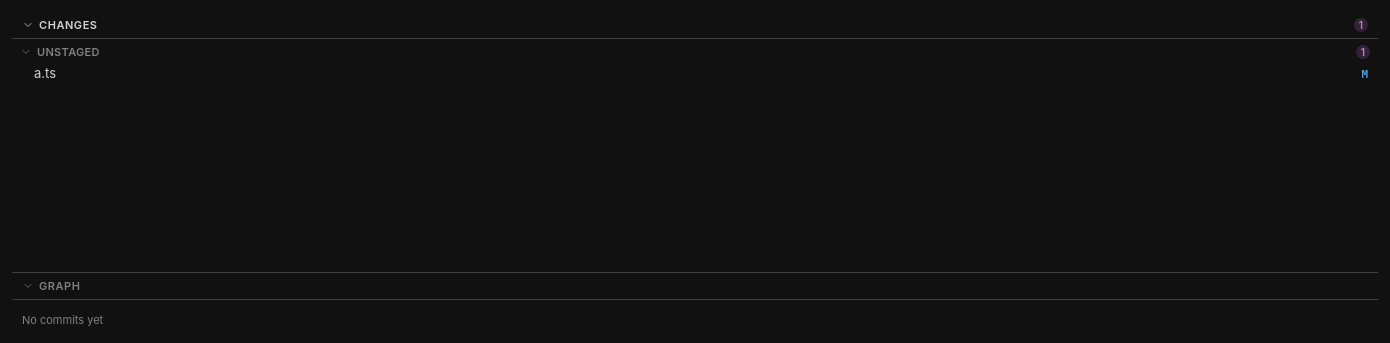
Test: GitChangesSection › panes › collapses a pane to its header
Expected: the text "a.ts" is shown, x1=34 y1=65 x2=56 y2=81
Click the text "Changes" at (68, 25), box x1=39 y1=18 x2=98 y2=32
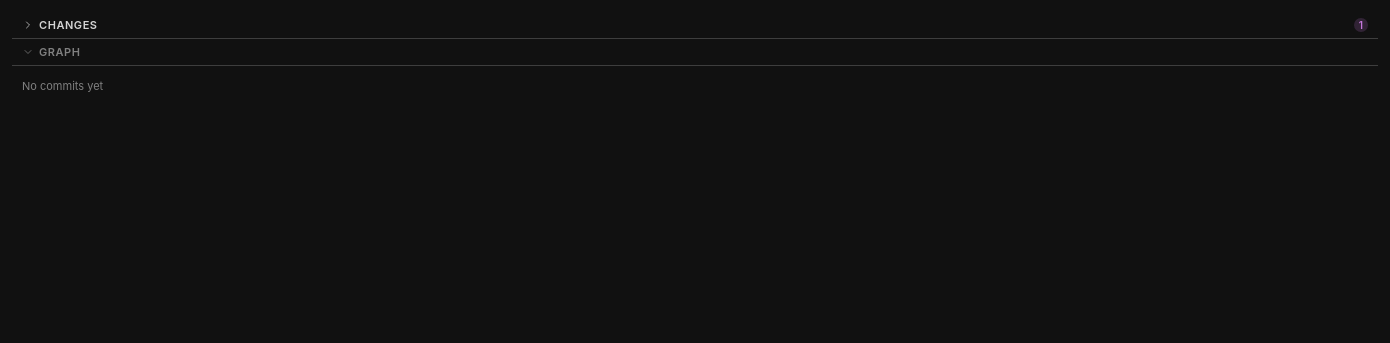
Result: the button "a.ts" is gone
